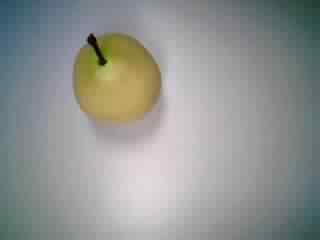pear: (59, 25, 168, 127)
